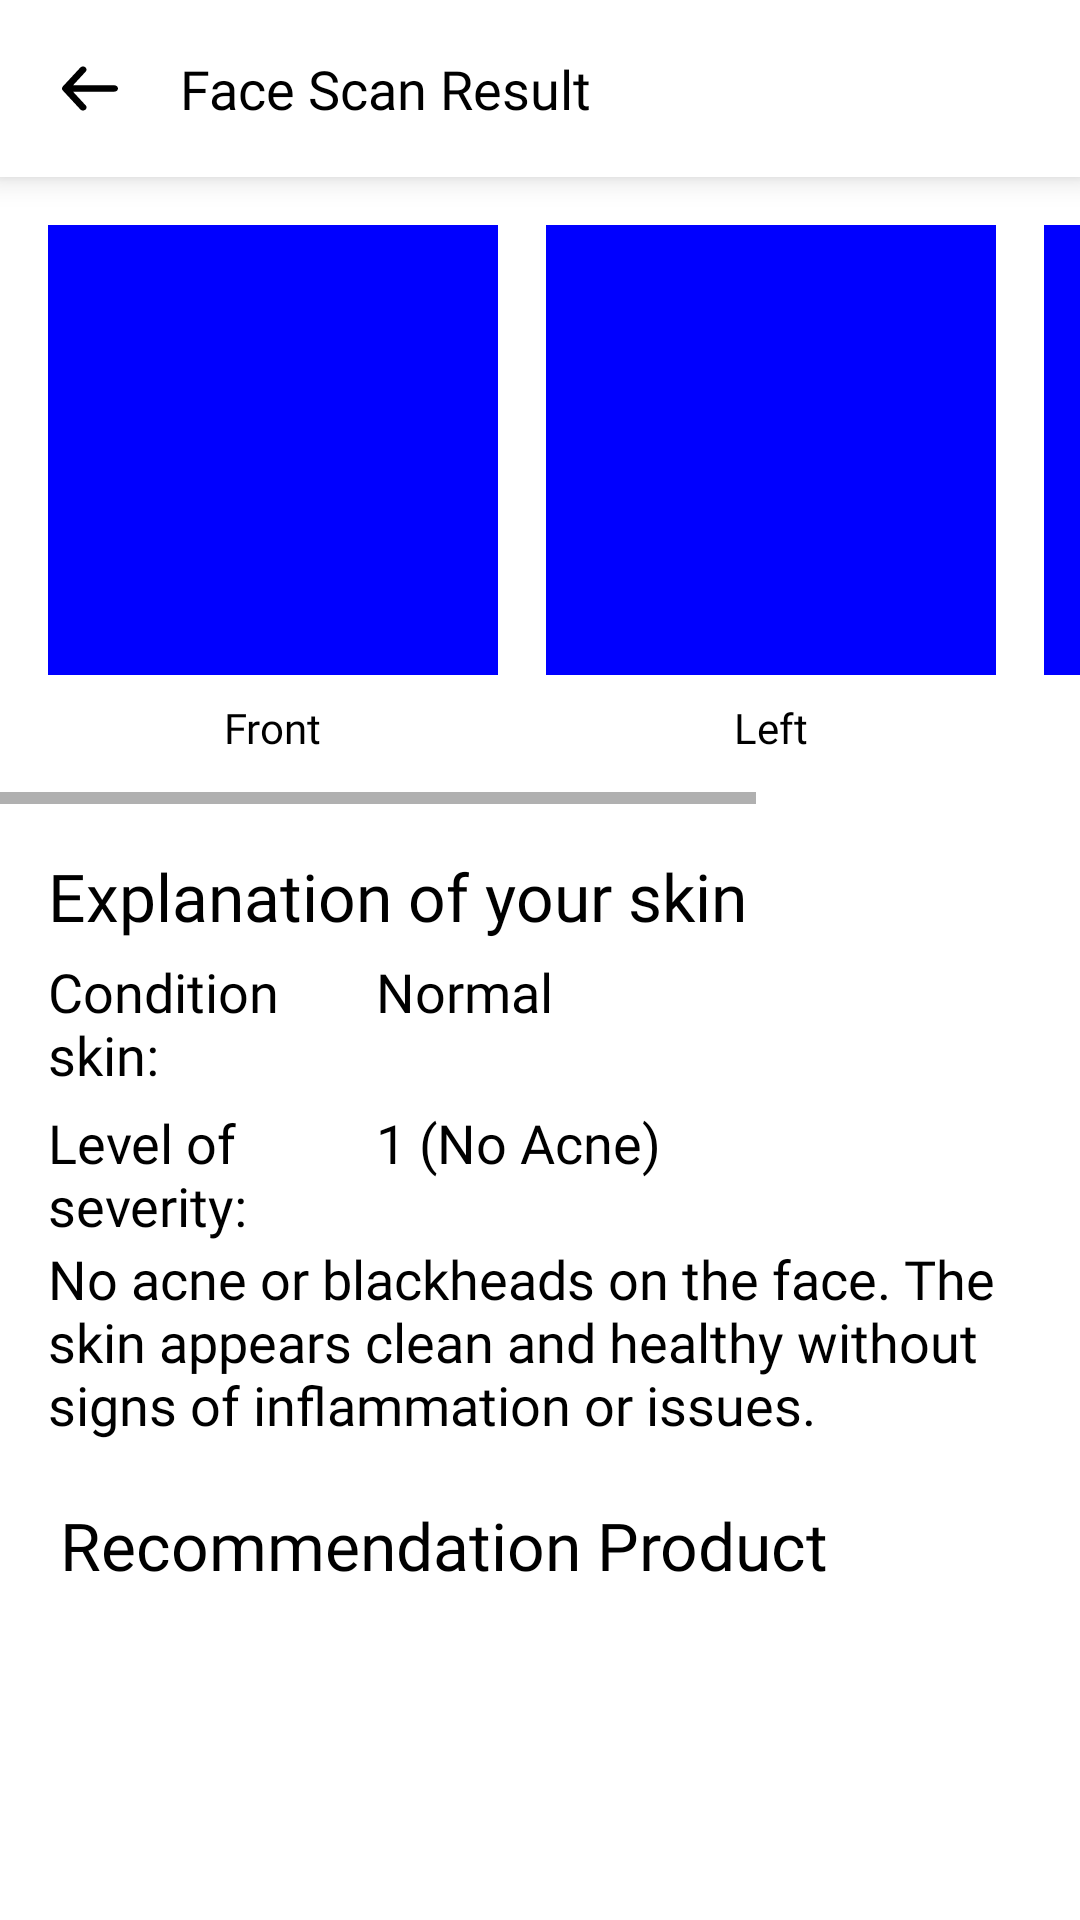

Icons on this 1080*1920 Android screen, each with the point to tap as (x,y):
Back: (90,88)
